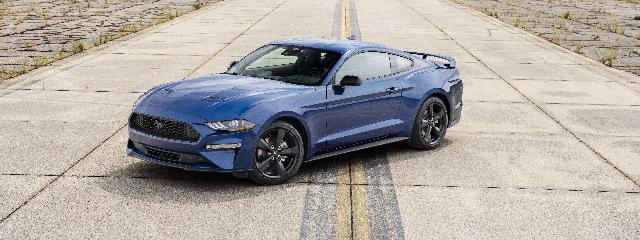ford-mustang: (126, 34, 464, 186)
